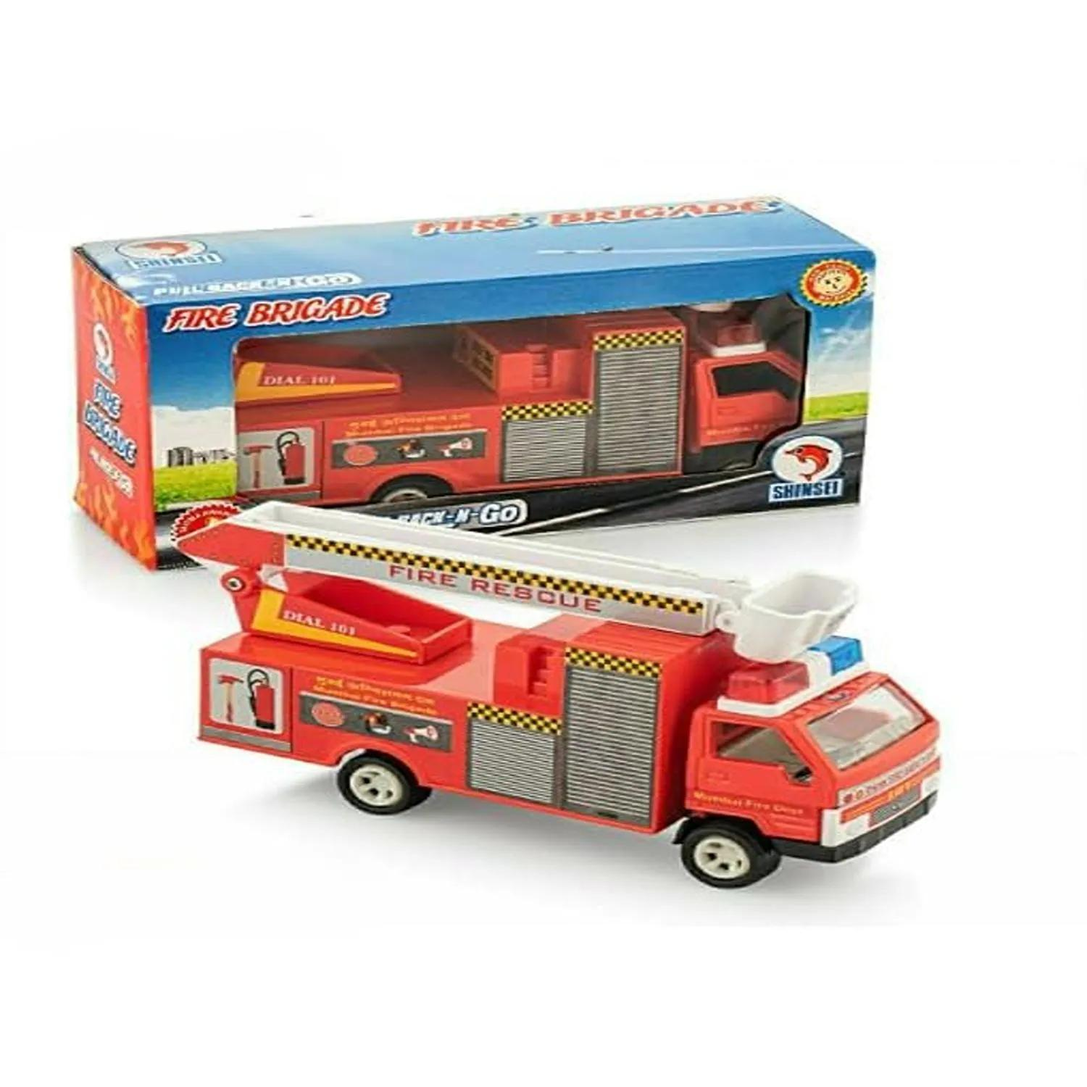Fire-engine: (207, 546, 941, 913)
